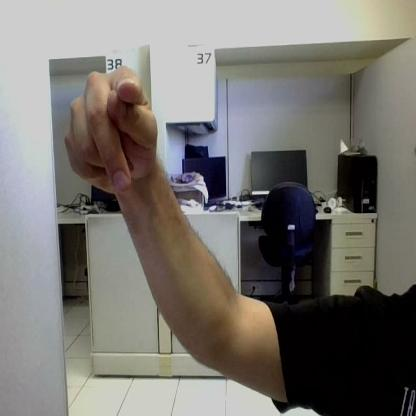P: (65, 66, 157, 192)
